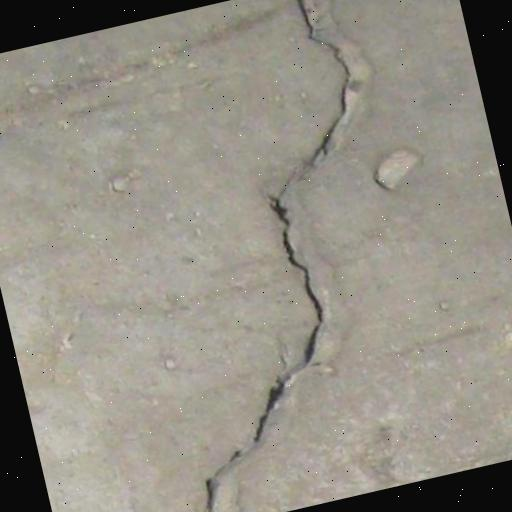spalling: (192, 0, 367, 512)
